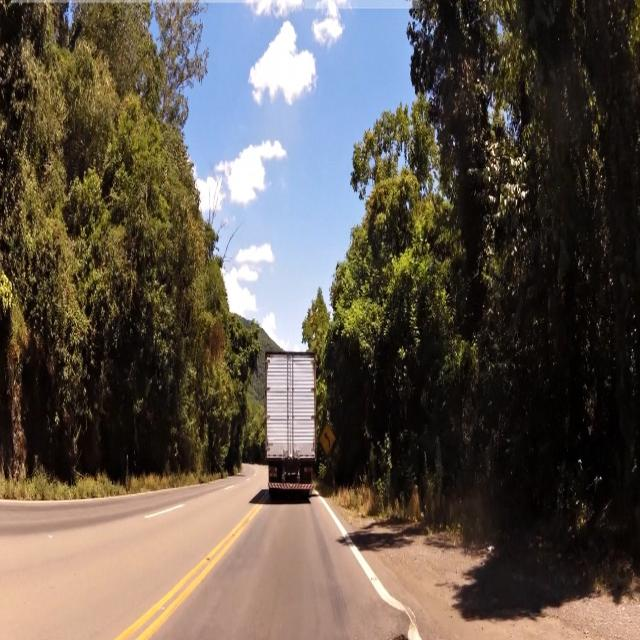A-2a: (321, 424, 336, 457)
